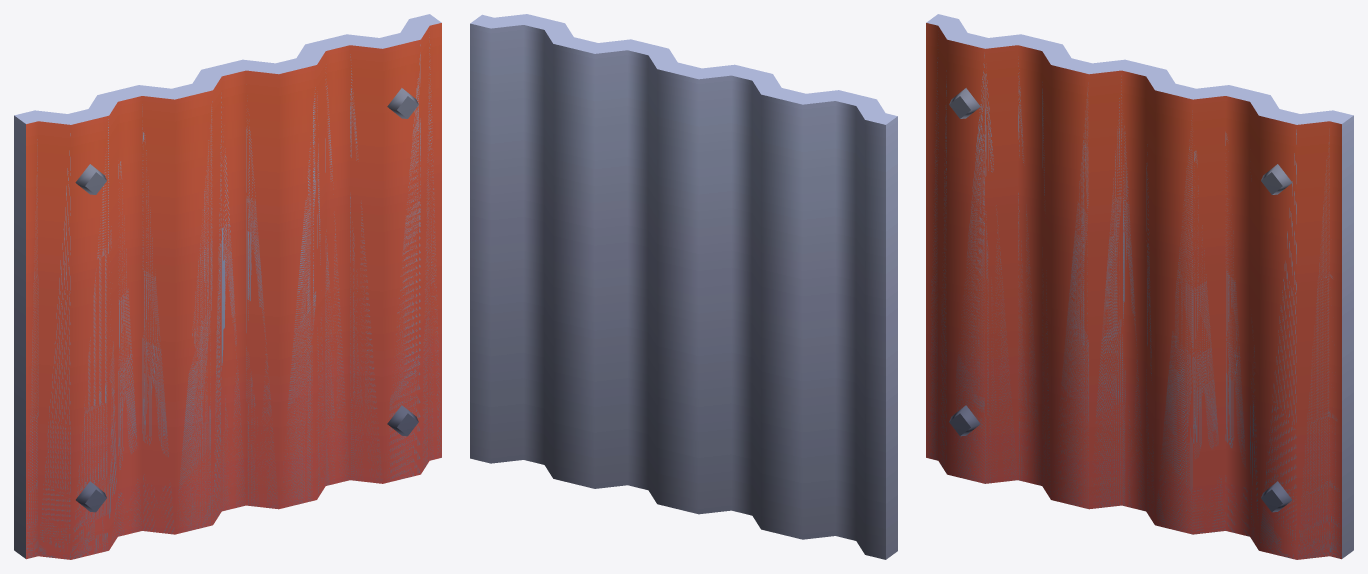
Rendered from metal-panel-screws.glb.
The picture shows the model from 3 angles, left to right: view 1: azimuth 30°, elevation 25°; view 2: azimuth 150°, elevation 25°; view 3: azimuth 330°, elevation 25°; orthographic projection.
Visible parts, largest first — view 1: metal-panel-screws; view 2: metal-panel-screws; view 3: metal-panel-screws.
Part boxes in pixels (x1,y1,x2,y2): metal-panel-screws: (14, 14, 441, 559); metal-panel-screws: (470, 14, 897, 559); metal-panel-screws: (926, 14, 1353, 559).
Bounding box in the file's own units: 0.5 × 0.5 × 0.0625.
Materials: 1 (1 with a texture image).
